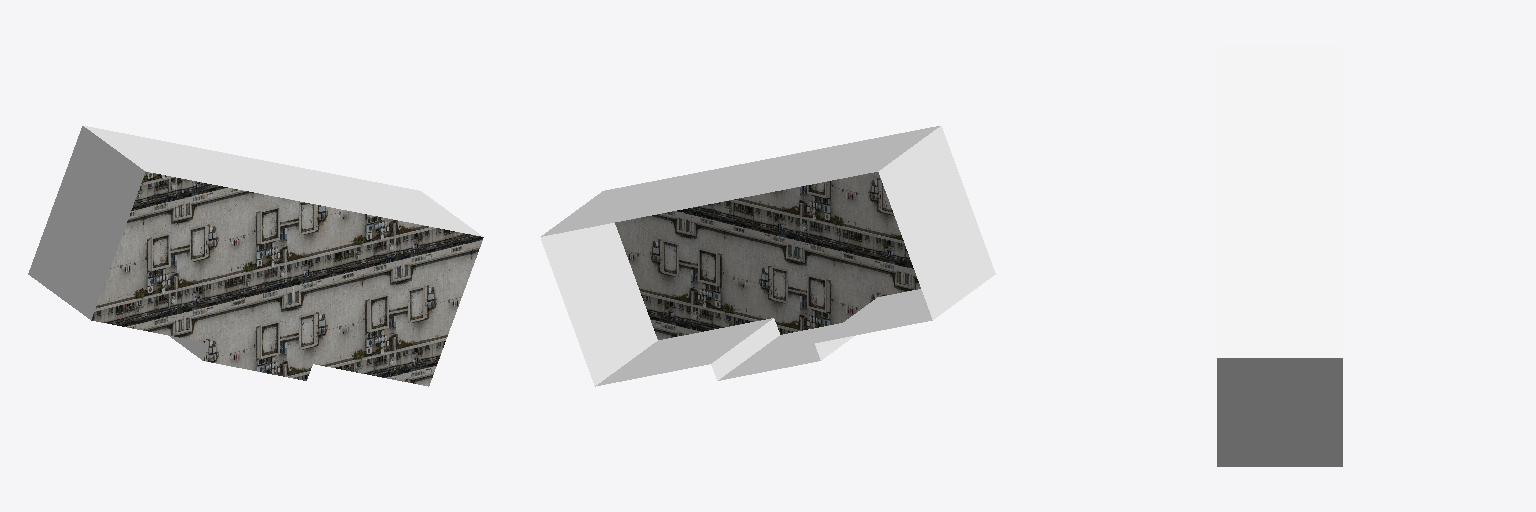
3 views of the same model, side by side, from view 1: azimuth 30°, elevation 25°; view 2: azimuth 150°, elevation 25°; view 3: azimuth 270°, elevation 25° (orthographic).
Visible parts, largest first — view 1: Building; view 2: Building; view 3: Building.
Part boxes in pixels (bbox=[...]): Building: bbox=[28, 126, 483, 386]; Building: bbox=[540, 126, 995, 386]; Building: bbox=[1217, 45, 1342, 466].
Size of the model in its own units: 21.55 by 14.9 by 6.
Materials: 2 (1 with a texture image).